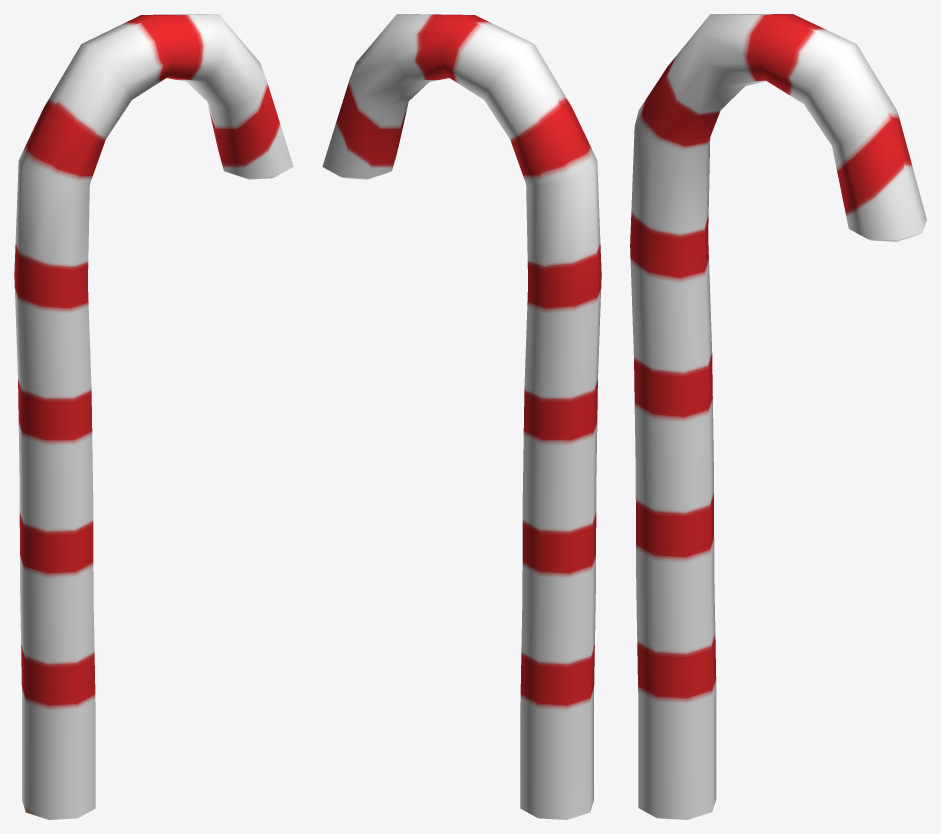
The model's file is BastonFarola.FBX.
3 renders of one model, left to right at view 1: azimuth 30°, elevation 25°; view 2: azimuth 150°, elevation 25°; view 3: azimuth 330°, elevation 25°, orthographic. The views are drawn at different scales.
Visible parts, largest first — view 1: BastonCaramelo; view 2: BastonCaramelo; view 3: BastonCaramelo.
Part boxes in pixels (bbox=[...]): BastonCaramelo: bbox=[14, 14, 293, 819]; BastonCaramelo: bbox=[322, 14, 601, 819]; BastonCaramelo: bbox=[630, 14, 926, 819].
Bounding box in the file's own units: 1.57 × 0.3815 × 4.23.
